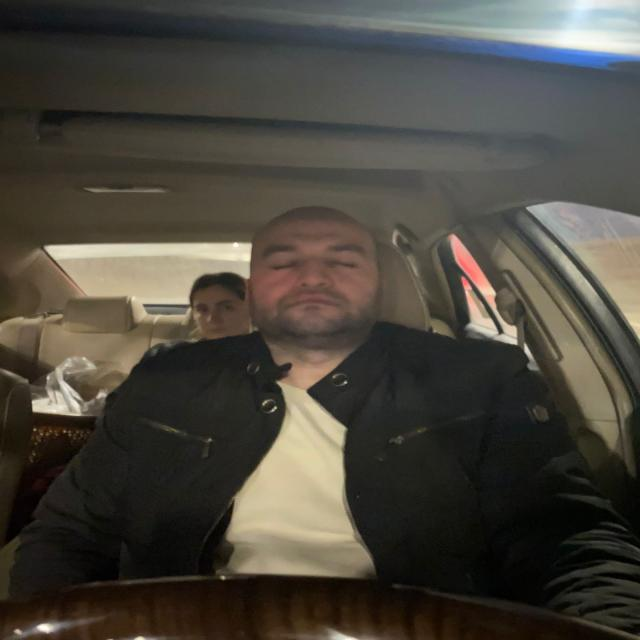drowsy: (251, 208, 385, 351)
person: (182, 259, 246, 342)
